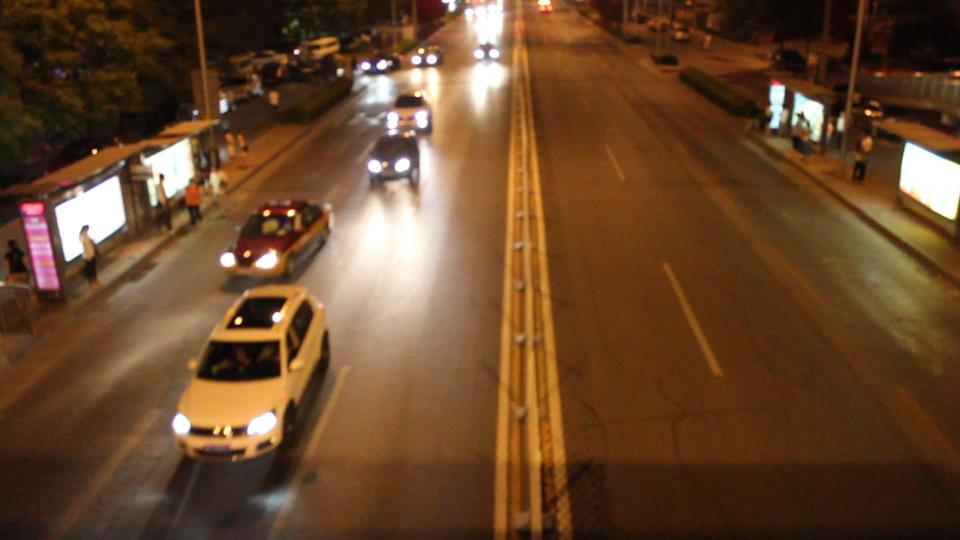car: (218, 198, 333, 284), (386, 93, 433, 138), (360, 51, 401, 75), (411, 46, 445, 66)
microbus: (298, 34, 340, 64)
suv: (170, 284, 331, 463), (366, 131, 420, 188)
